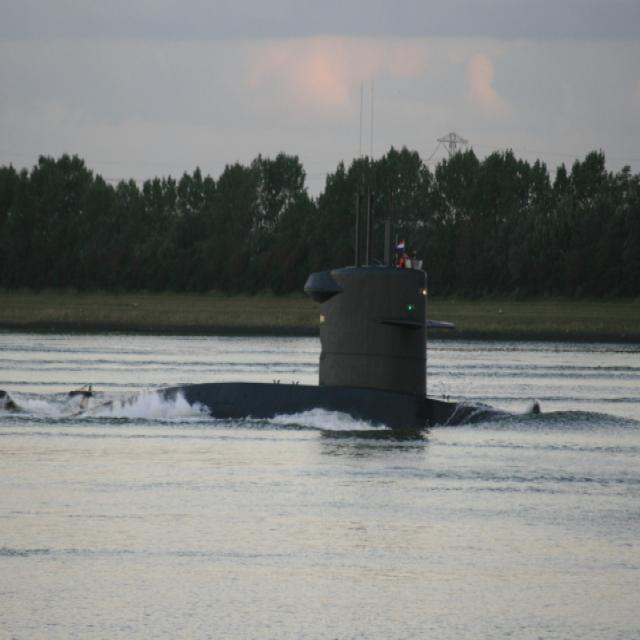submarine: (1, 265, 547, 413)
